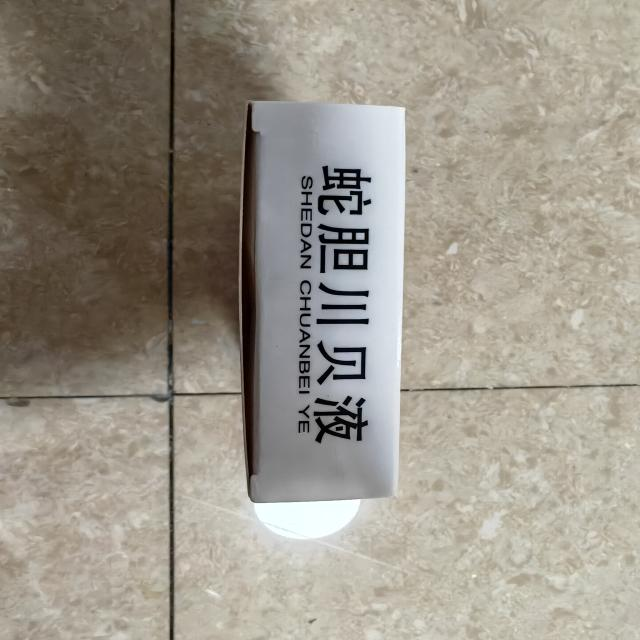box: (226, 88, 424, 514)
